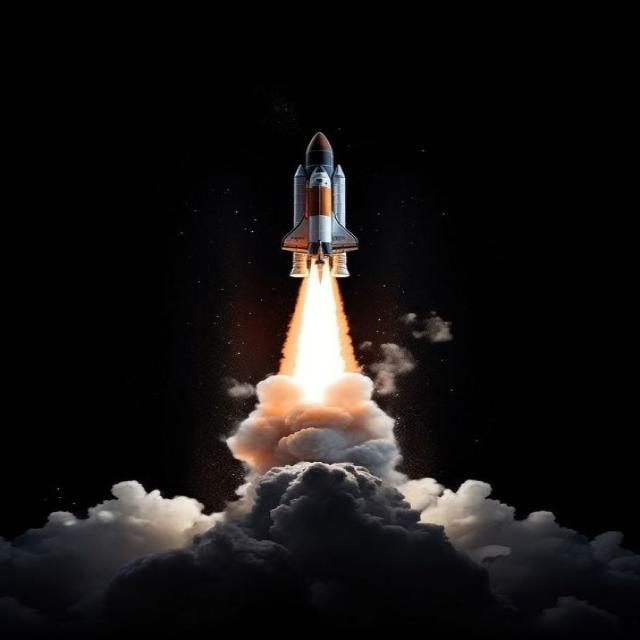medium_debris: (281, 261, 359, 387)
rocket: (278, 161, 356, 261)
